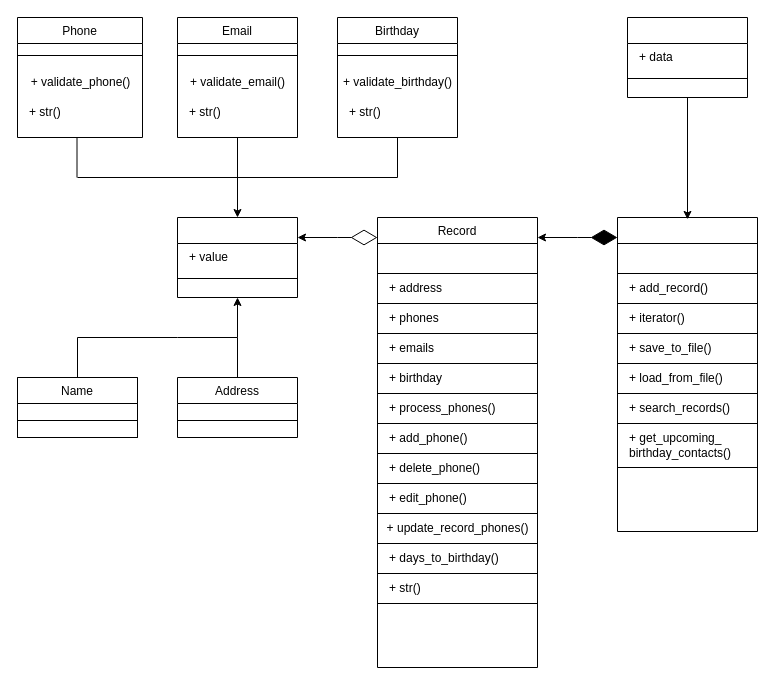
The diagram is 775 pixels wide and 685 high, and some of its shapes have lost their labels. The shapes that lost their labels are listed below. From the top down, each one's box as (x1, y1, x2, y2) in pixels, then its label:
(626, 16, 748, 98): UserDict
(176, 216, 298, 298): Field
(376, 242, 538, 274): + name
(616, 216, 758, 532): AddressBook
